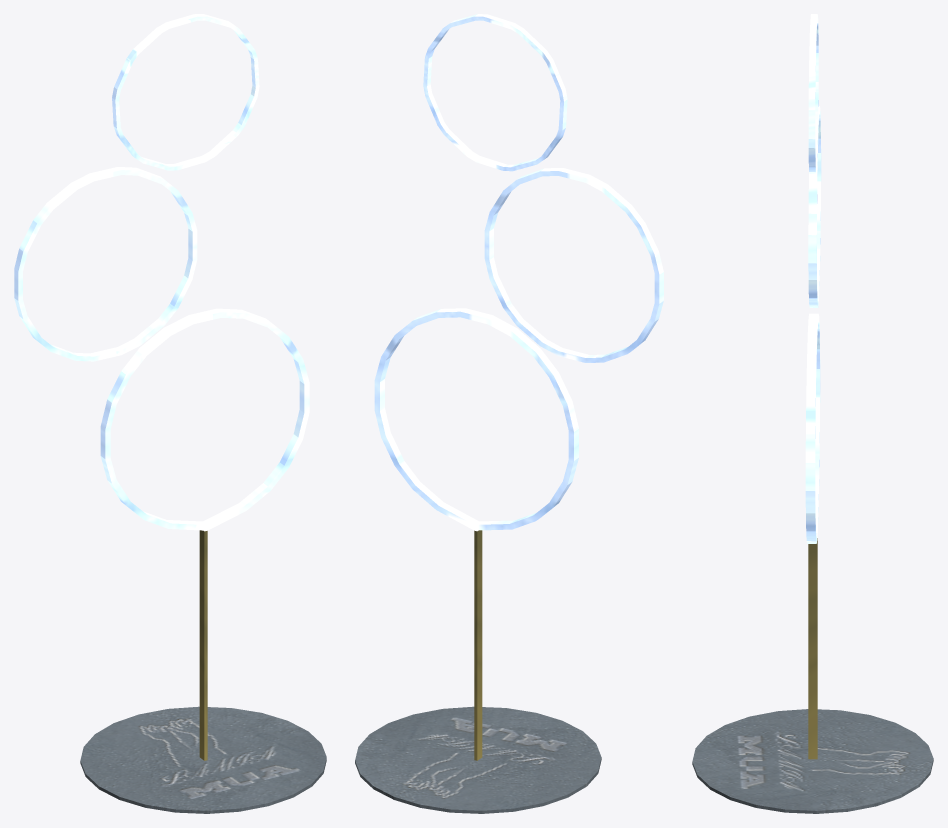
Rendered from FloorLamp.glb.
3 renders of one model, left to right at view 1: azimuth 30°, elevation 25°; view 2: azimuth 150°, elevation 25°; view 3: azimuth 270°, elevation 25°, orthographic. The views are drawn at different scales.
Visible parts, largest first — view 1: Cylinder; view 2: Cylinder; view 3: Cylinder.
Boxes of the visible parts, x1,y1,x2,y2 form: Cylinder: [14, 14, 326, 813]; Cylinder: [355, 14, 663, 813]; Cylinder: [692, 14, 933, 813].
Size of what is drawn, in the model's own units: 0.8205 by 2.01 by 0.5993.
2 materials, 2 textured.
